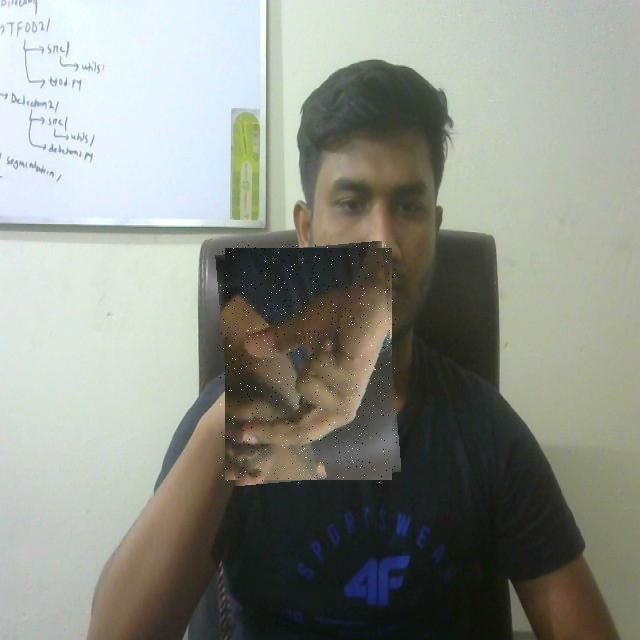No: (220, 245, 397, 483)
